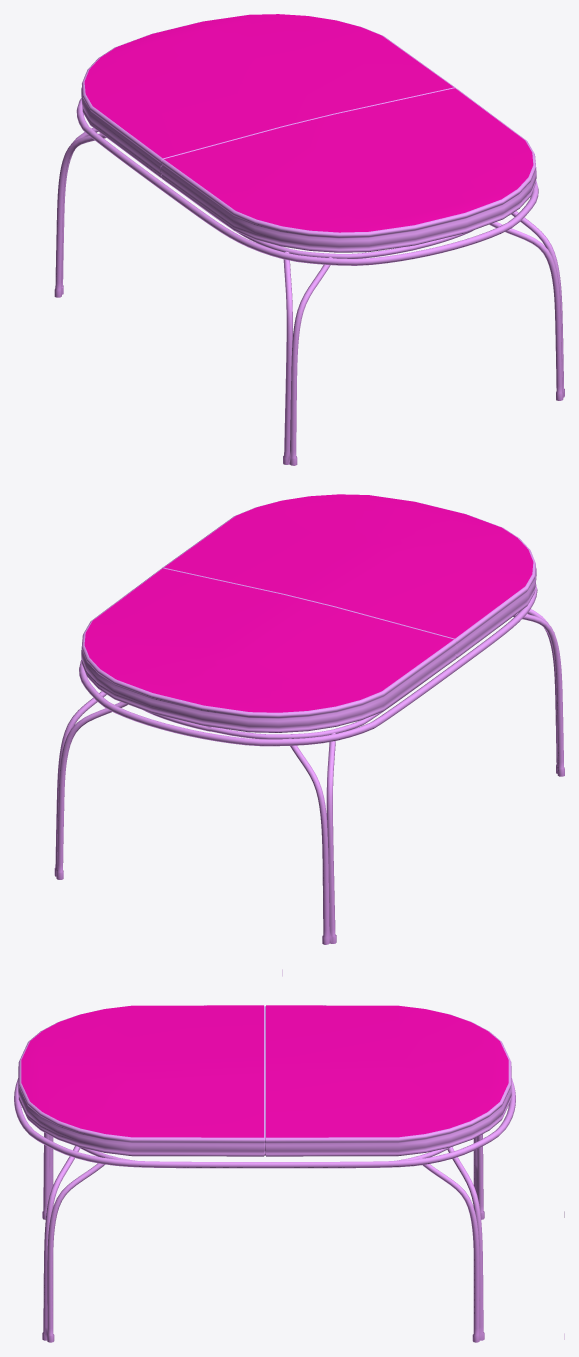
The model's file is Table_Full.fbx.
3 views of the same model, one above another, from view 1: azimuth 30°, elevation 25°; view 2: azimuth 150°, elevation 25°; view 3: azimuth 270°, elevation 25° (orthographic). The views are drawn at different scales.
Visible parts, largest first — view 1: TableTop, TableLeg, TableRing, TableRing1; view 2: TableTop, TableLeg, TableRing, TableRing1; view 3: TableTop, TableLeg, TableRing.
Boxes of the visible parts, x1,y1,x2,y2 form: TableTop: (81,14,536,252); TableLeg: (54,128,564,465); TableRing: (76,98,538,265); TableRing1: (186,196,473,258); TableTop: (81,494,536,732); TableLeg: (54,609,564,976); TableRing: (79,584,537,746); TableRing1: (143,674,434,739); TableTop: (18,1005,511,1156); TableLeg: (42,1132,564,1342); TableRing: (14,1078,515,1168).
Size of the model in its own units: 2393 by 1731 by 4110.
